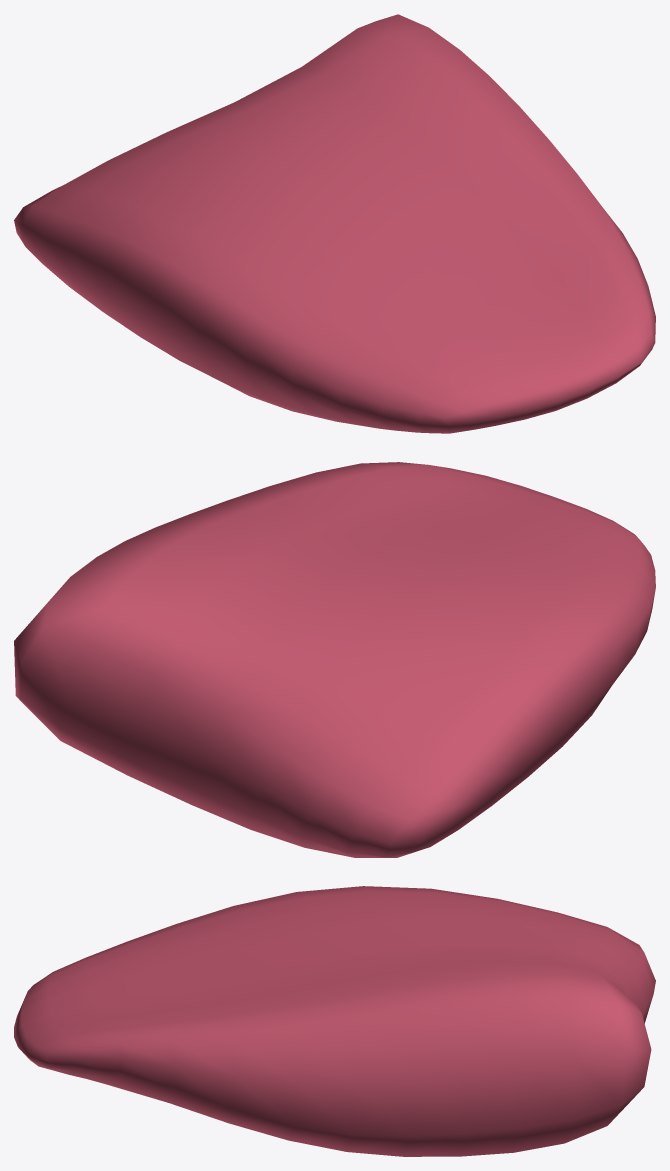
3 renders of one model, top to bottom at view 1: azimuth 30°, elevation 25°; view 2: azimuth 150°, elevation 25°; view 3: azimuth 270°, elevation 25°, orthographic. The views are drawn at different scales.
Parts seen in each view (by area): view 1: 左侧跟腱囊; view 2: 左侧跟腱囊; view 3: 左侧跟腱囊.
Part boxes in pixels (<box>): 左侧跟腱囊: <box>14,14,655,433</box>; 左侧跟腱囊: <box>14,462,655,857</box>; 左侧跟腱囊: <box>14,886,655,1156</box>.
Bounding box in the file's own units: 0.0285 × 0.0136 × 0.0394.
